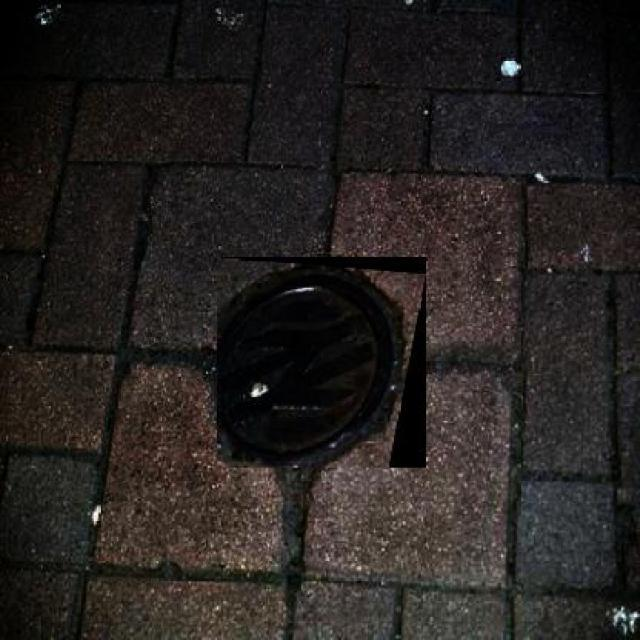Manhole: (217, 257, 426, 468)
